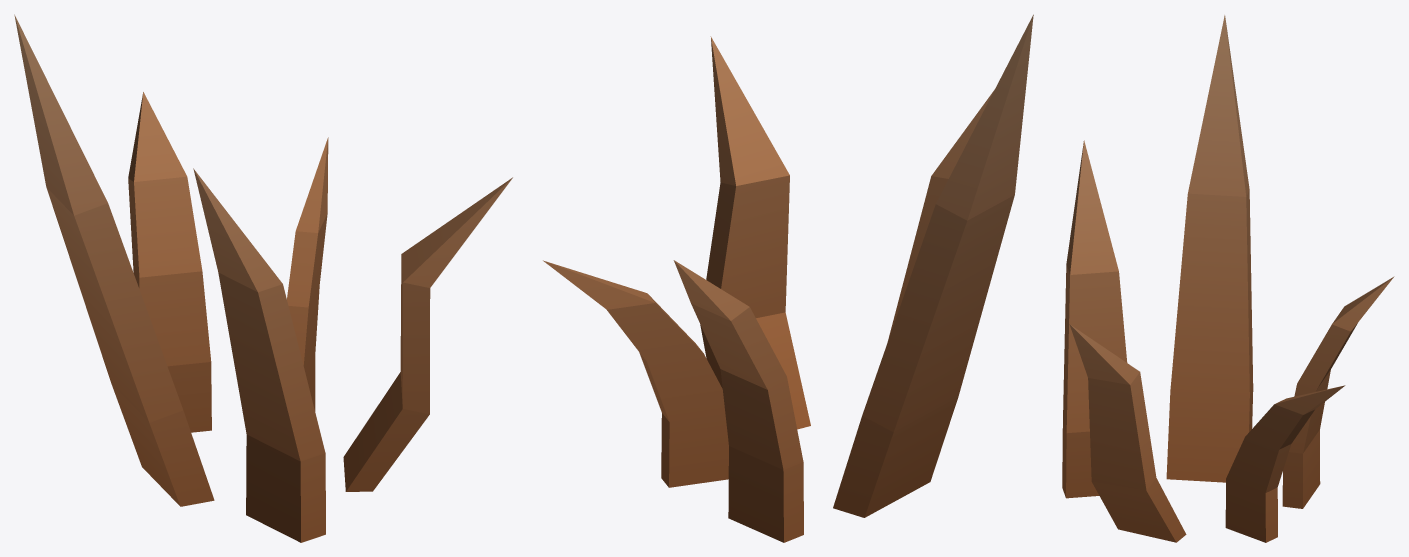
File: grass brown.fbx
3 views of the same model, side by side, from view 1: azimuth 30°, elevation 25°; view 2: azimuth 150°, elevation 25°; view 3: azimuth 270°, elevation 25° (orthographic). The views are drawn at different scales.
Visible parts, largest first — view 1: grass brown; view 2: grass brown; view 3: grass brown.
Part boxes in pixels (x1,y1,x2,y2): grass brown: (14,14,512,542); grass brown: (543,14,1033,542); grass brown: (1062,15,1394,542).
Bounding box in the file's own units: 80.54 × 95.63 × 71.84.
